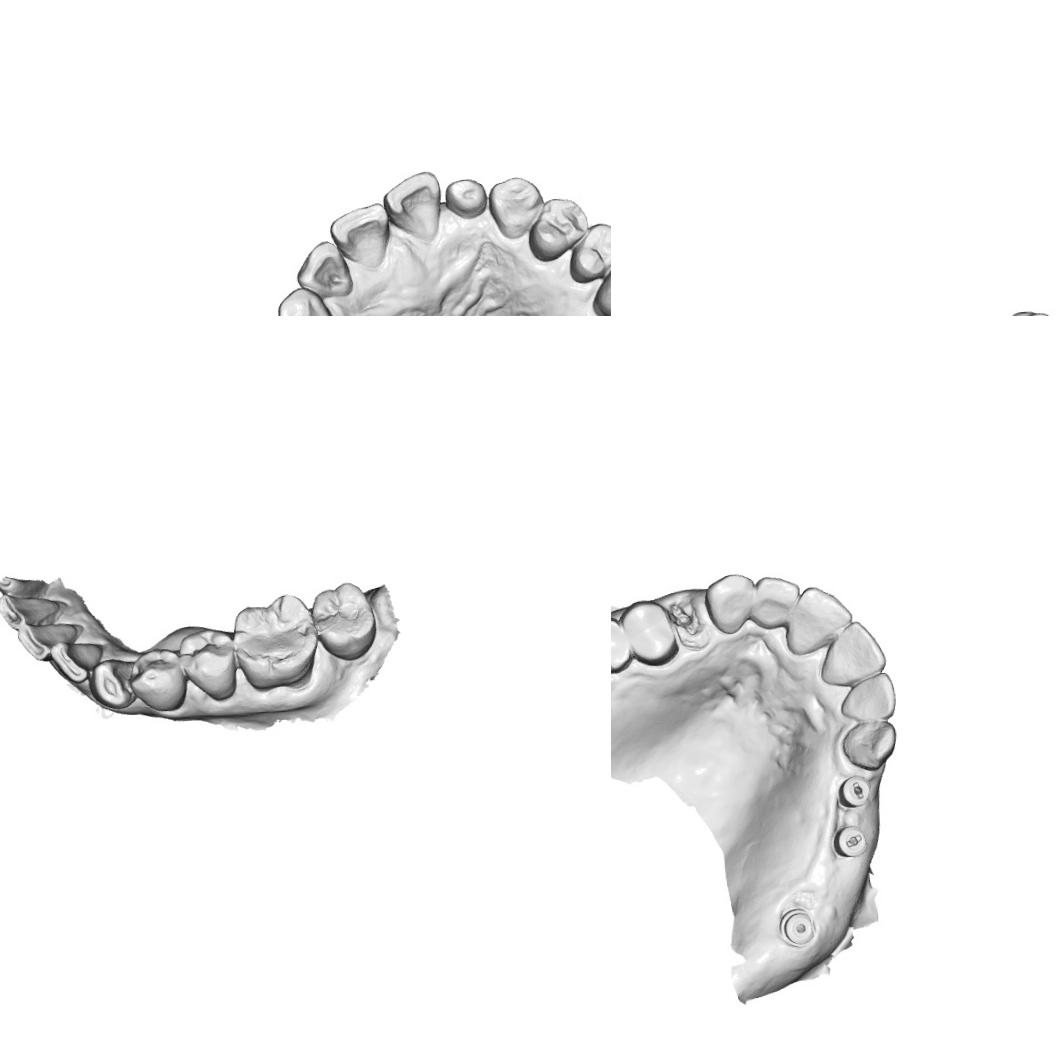canine: (486, 173, 544, 239), (838, 716, 898, 774), (703, 570, 755, 636), (87, 657, 137, 710), (274, 284, 338, 316)
implant: (774, 902, 821, 952)
implant_minus: (827, 820, 872, 862), (832, 772, 876, 814)
incisor: (779, 582, 856, 657), (816, 618, 889, 688), (381, 169, 443, 241), (327, 200, 392, 266), (294, 239, 352, 300), (833, 670, 898, 724), (748, 574, 802, 631), (15, 621, 85, 662), (48, 637, 105, 685), (0, 590, 65, 629), (443, 175, 488, 220), (0, 571, 50, 598)
molar: (231, 590, 320, 695), (310, 579, 378, 664), (611, 613, 631, 675)
premolar: (178, 625, 239, 703), (617, 596, 680, 668), (524, 195, 589, 263), (128, 646, 188, 714), (565, 219, 611, 283)
